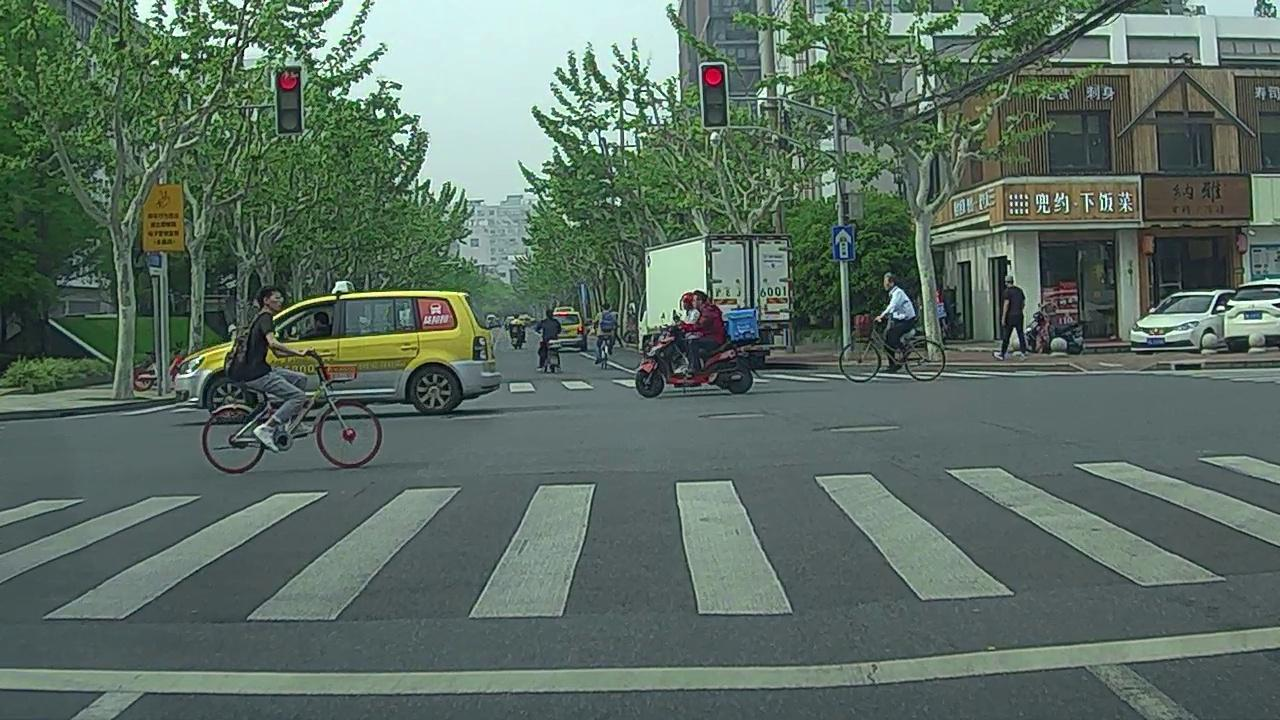traffic_light: (275, 66, 303, 134), (700, 63, 728, 126)
